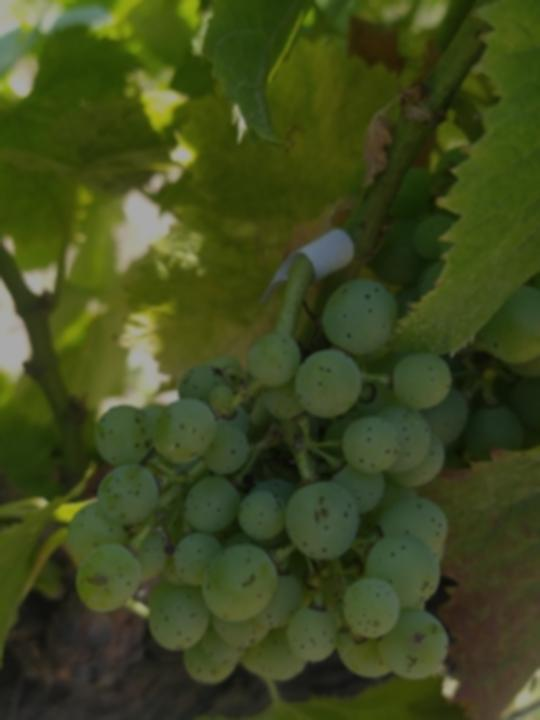grape: (65, 274, 540, 687)
